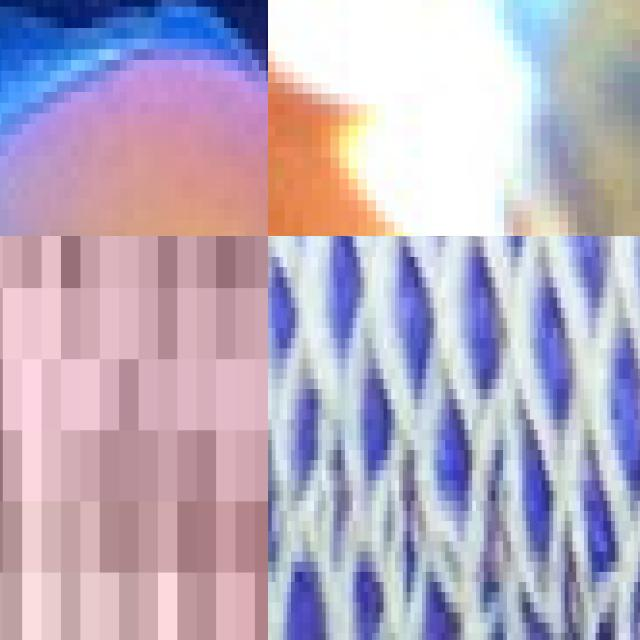fish: (0, 236, 268, 640), (268, 0, 640, 236), (0, 0, 268, 236)
